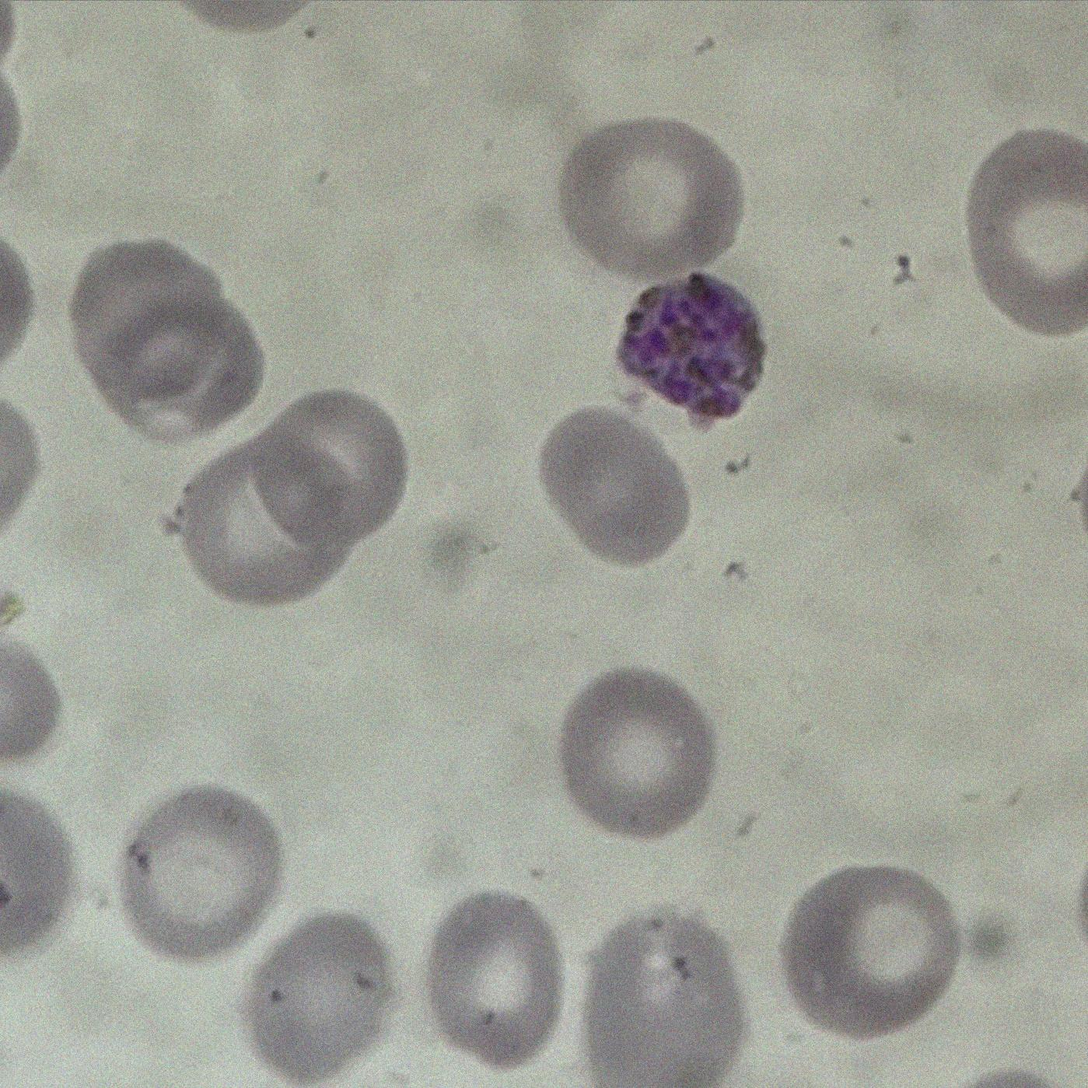Infected: (614, 275, 768, 422)
Uninfected: (583, 904, 747, 1088), (560, 113, 749, 271), (784, 866, 954, 1041), (962, 121, 1088, 333), (185, 440, 346, 605), (562, 671, 718, 839), (126, 790, 275, 960), (245, 914, 390, 1084), (99, 294, 264, 442), (428, 889, 562, 1066), (542, 409, 693, 565), (257, 387, 405, 543), (74, 240, 219, 369)
